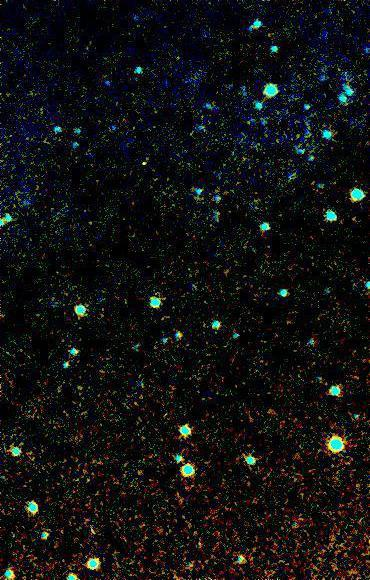star: (130, 154, 160, 184)
